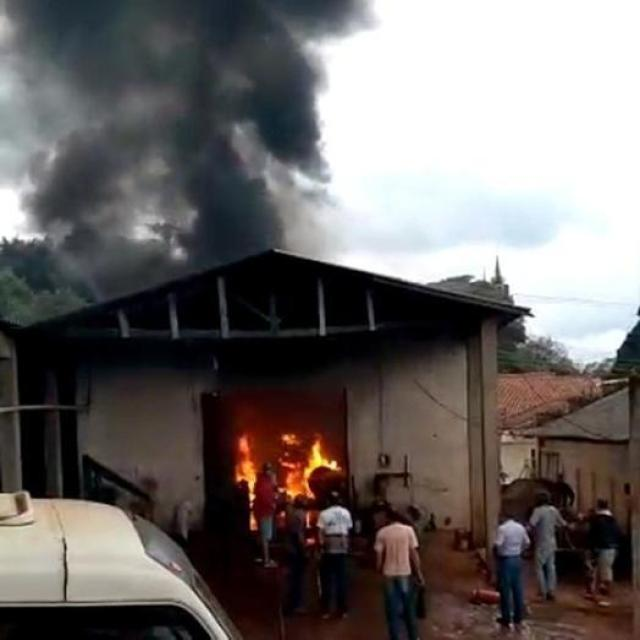Fire: (228, 423, 341, 506)
